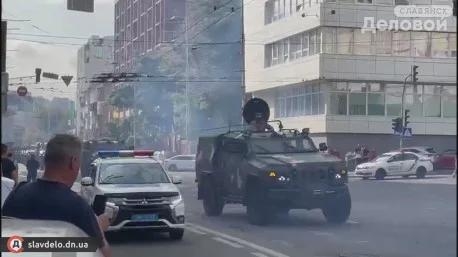armored_car: (194, 114, 358, 231)
car: (79, 146, 199, 241), (357, 148, 436, 190)
